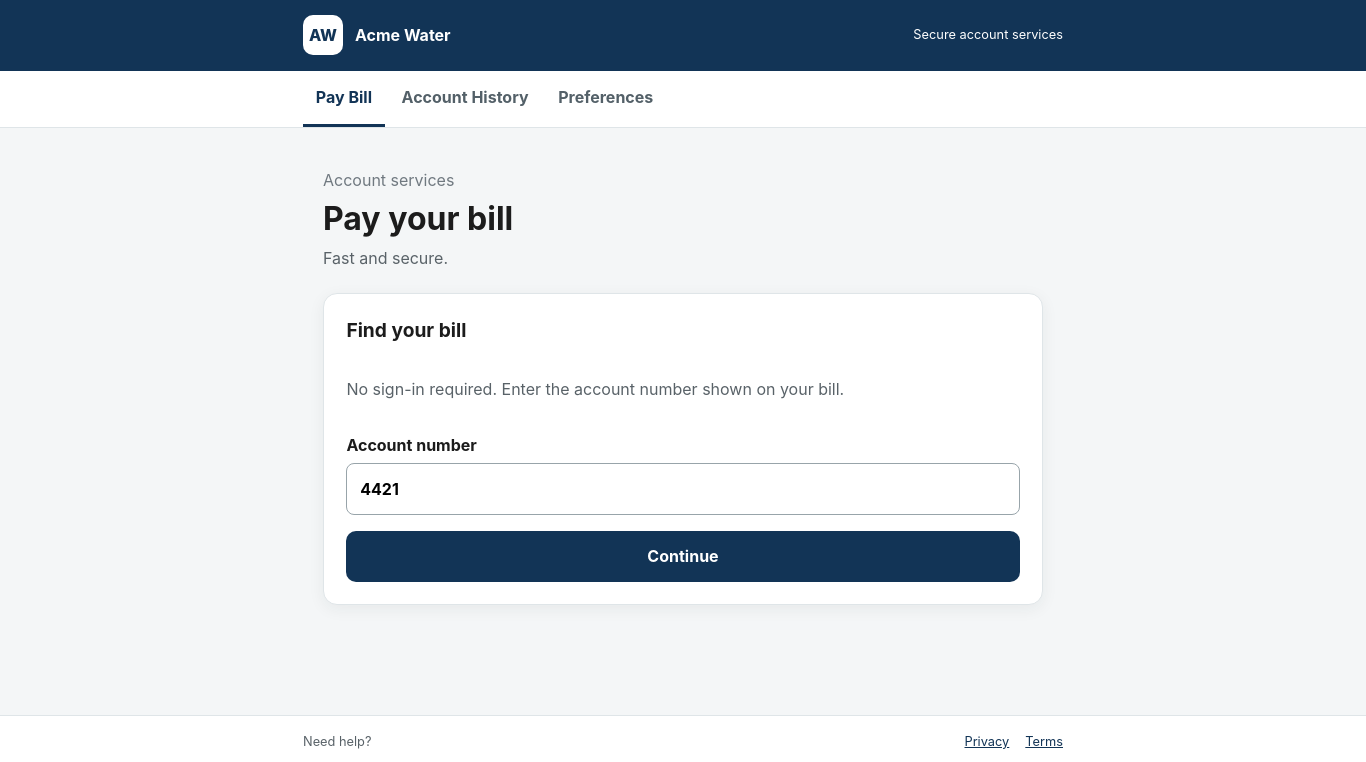
Test: multi-invoice cart + batch checkout › surfaces partial failure and retries only the unpaid invoice with the same key
Click the button with test id "lookup-submit".
click(683, 556)  # box [346,531,1020,582]
(page scrolled)
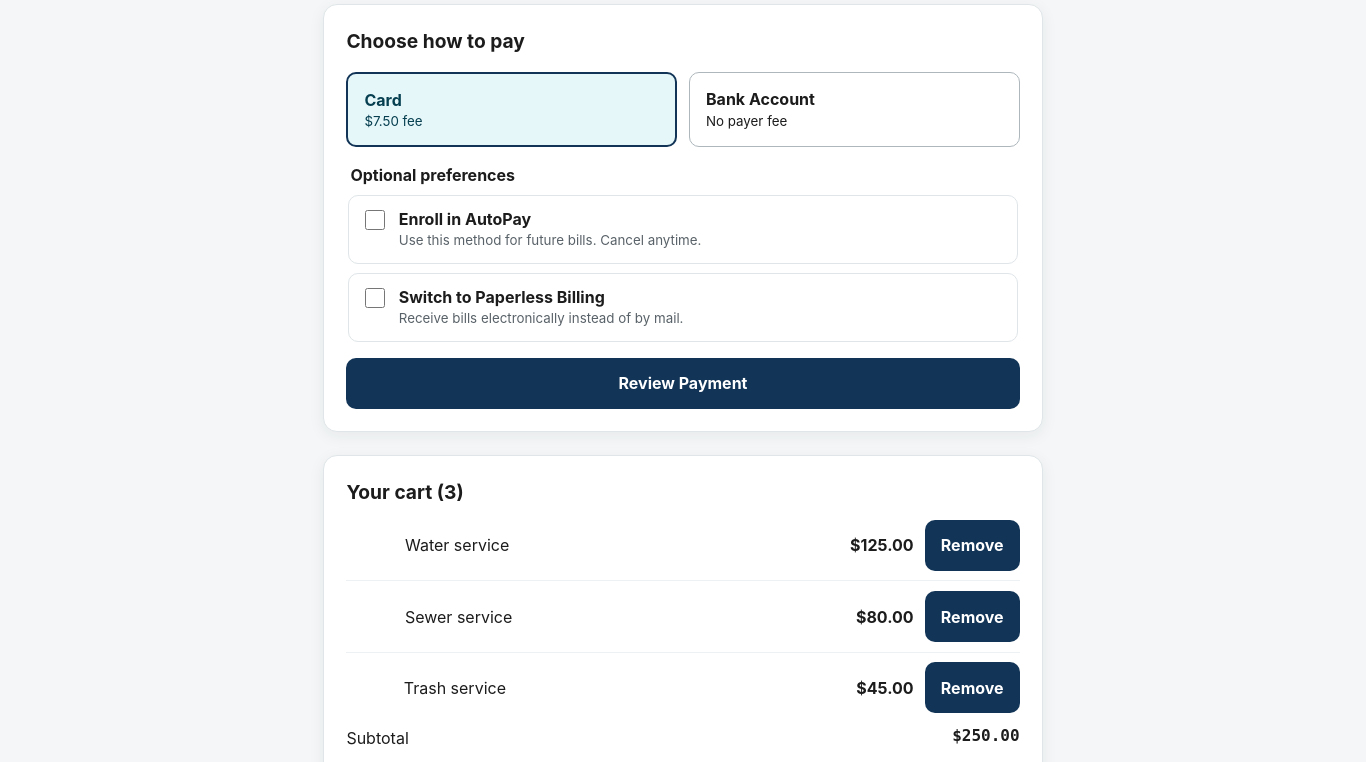
Expected: the button with test id "review-submit" is enabled
Click the button with test id "review-submit".
click(683, 383)  # box [346,358,1020,409]
(page scrolled)
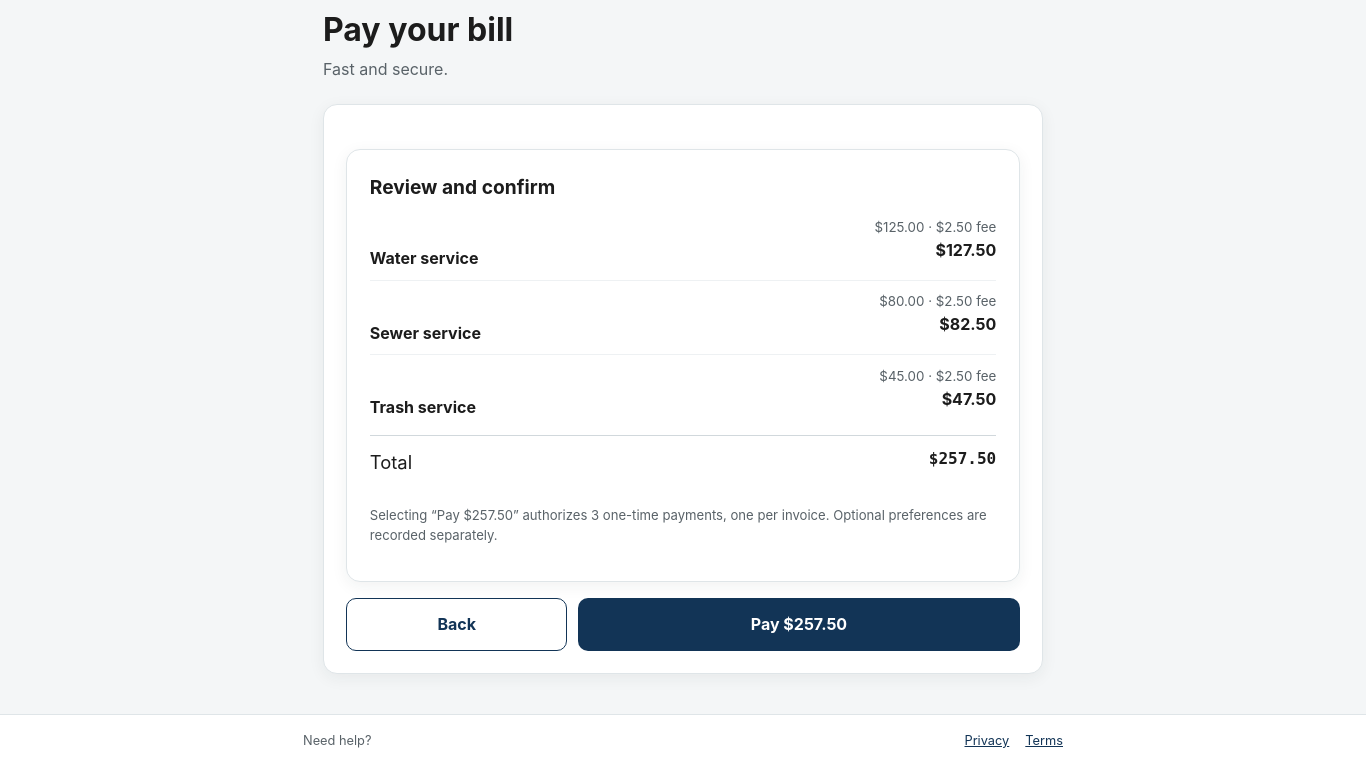
Expected: the element with test id "batch-review" is shown, [346,149,1020,582]
Click the button with test id "pay-submit".
click(799, 624)  # box [578,598,1020,651]
(page scrolled)
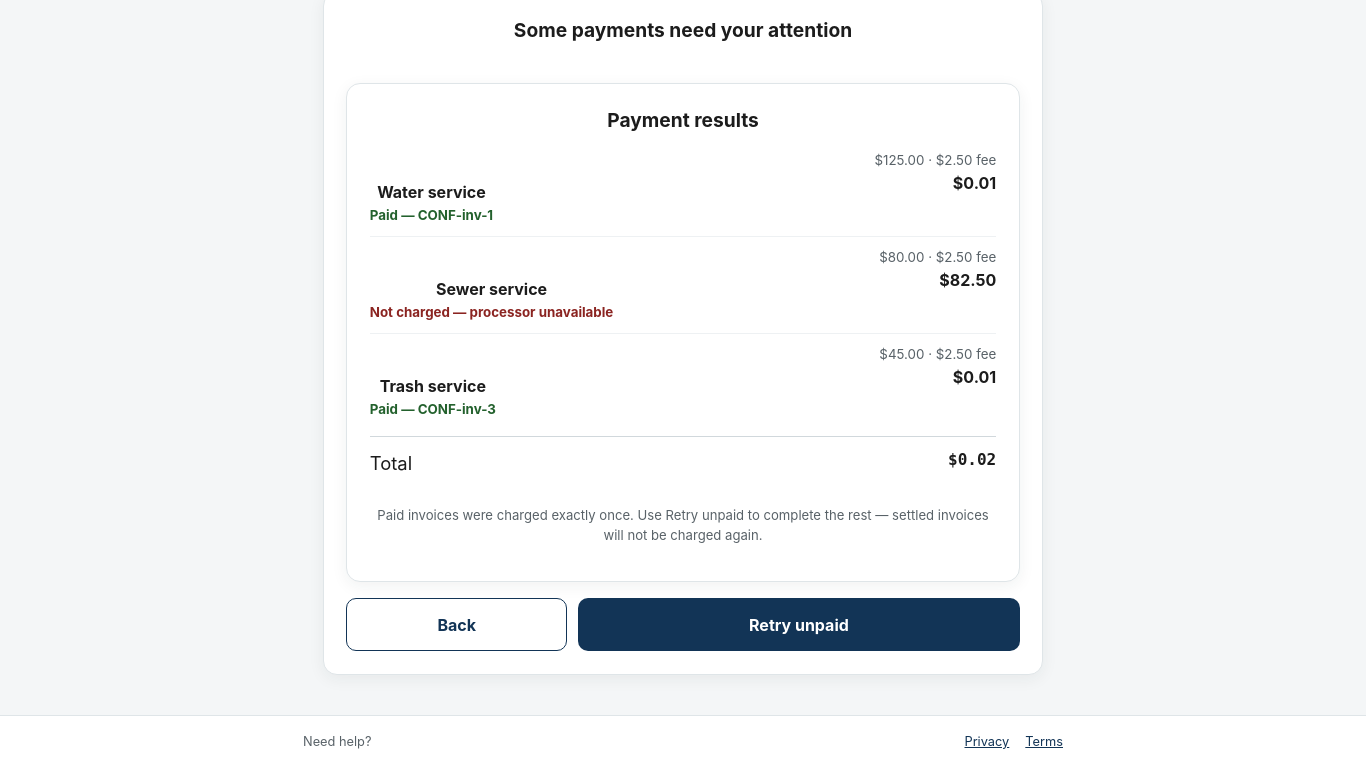
Expected: the text with test id "batch-status-inv-2" shows "Not charged", [370,304,450,320]
Click the button with test id "retry-batch".
click(799, 625)  # box [578,598,1020,652]
(page scrolled)
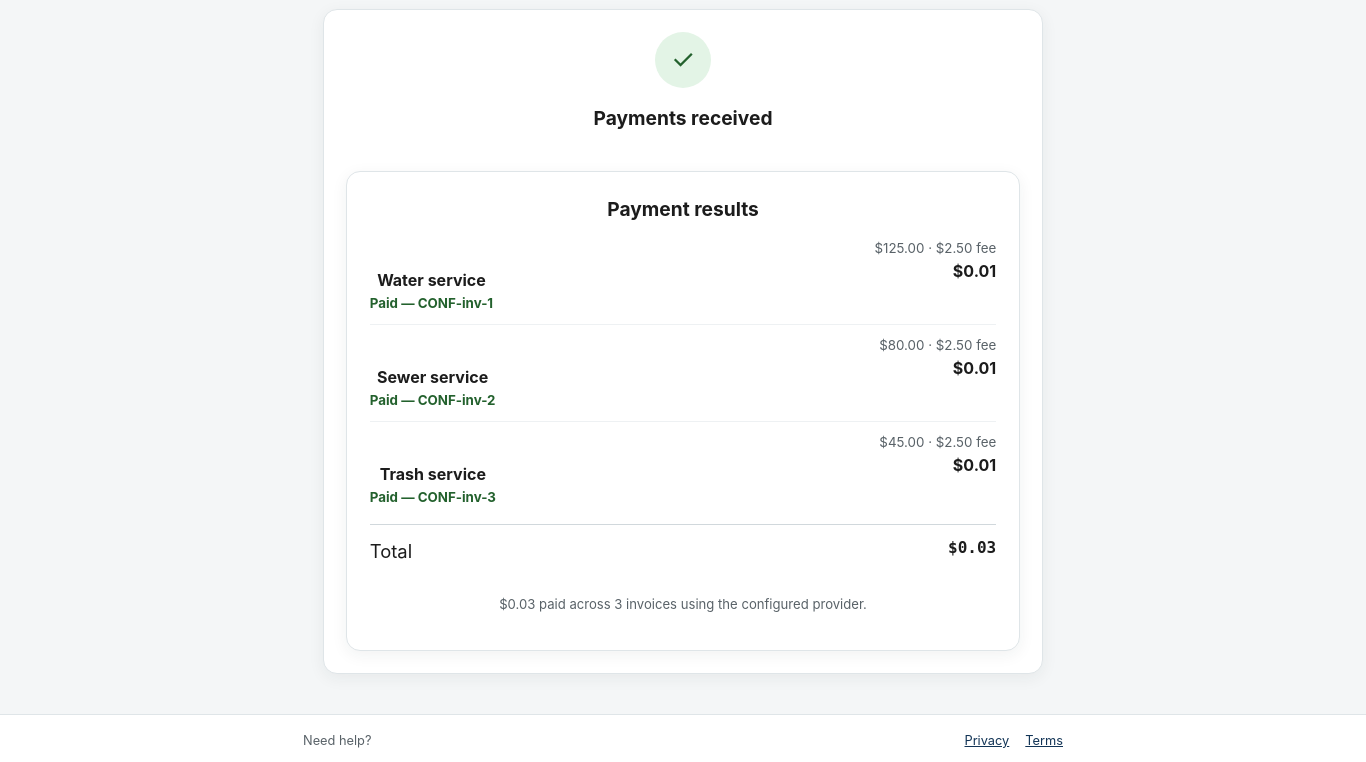
Expected: the text with test id "batch-status-inv-2" shows "Paid", [370,392,398,408]
